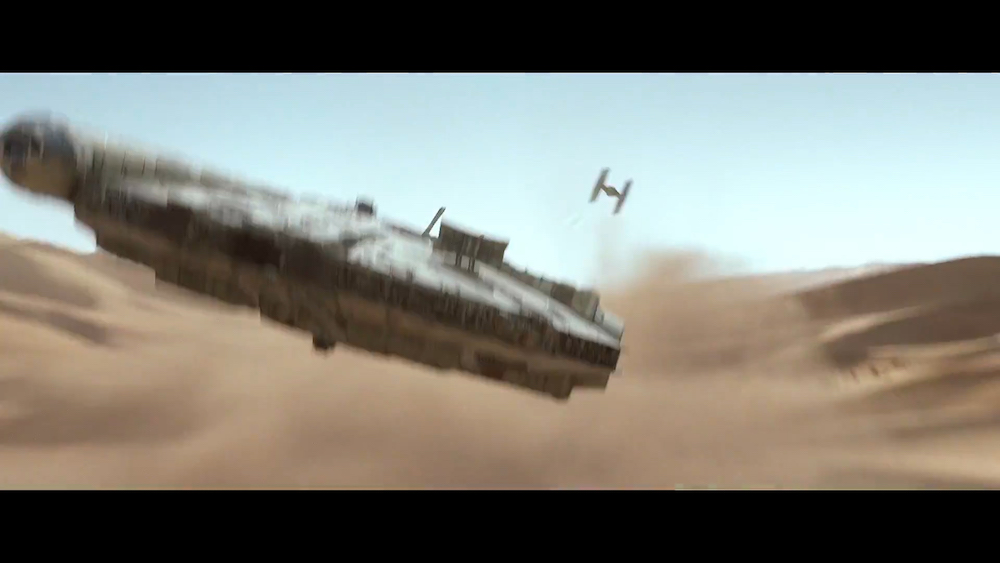Millennium Falcon: (1, 116, 626, 402)
Tie Fighter: (588, 168, 635, 216)
